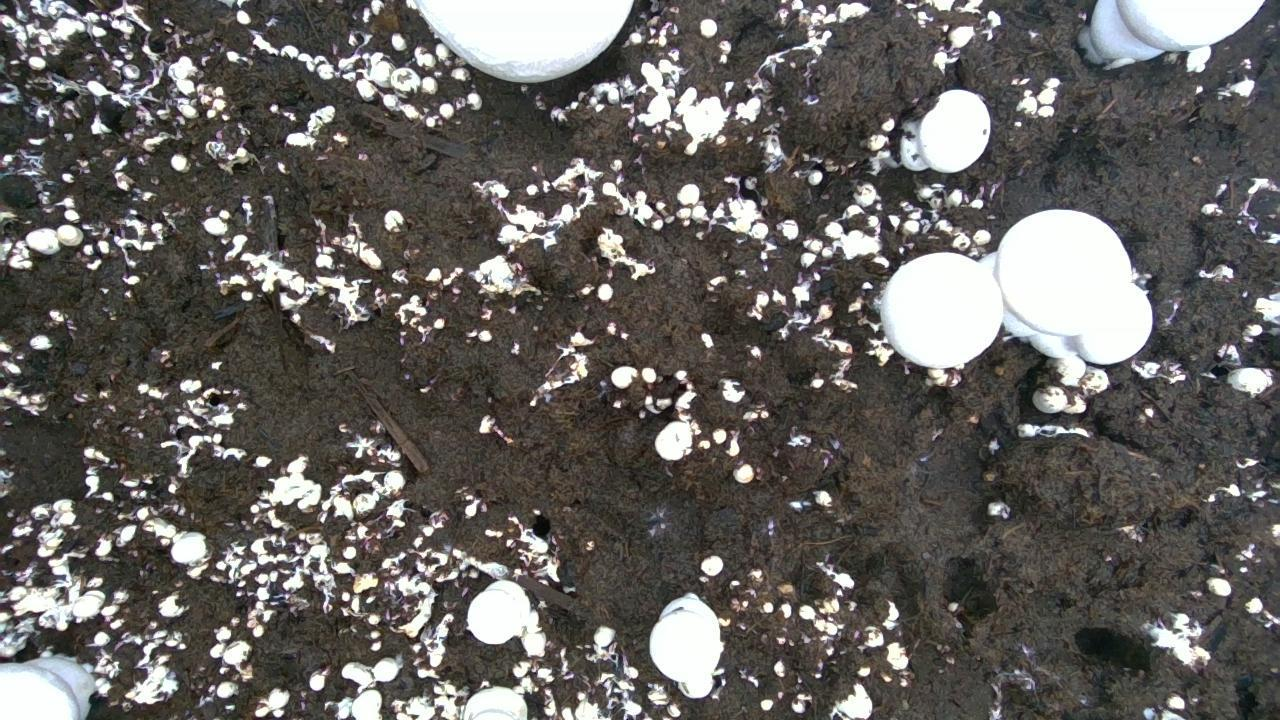WB: (995, 210, 1152, 364), (415, 0, 632, 82), (881, 252, 1002, 368), (649, 593, 722, 697), (1118, 0, 1262, 50), (0, 655, 95, 719), (918, 90, 990, 172), (467, 580, 530, 643)
